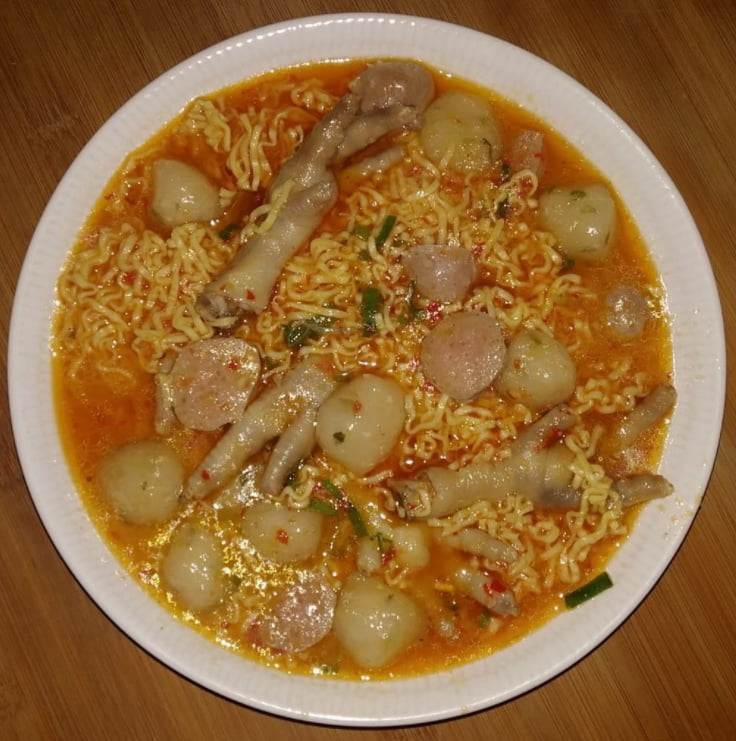seblak: (54, 59, 671, 674)
